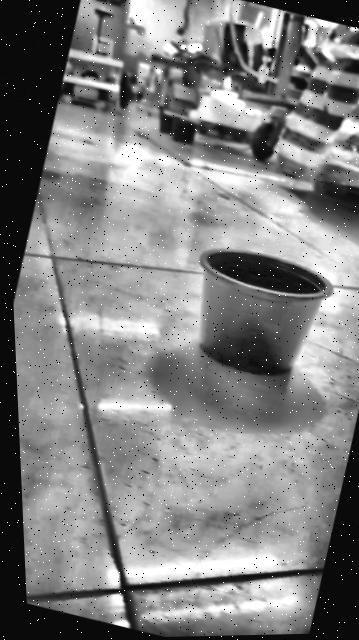pot: (173, 237, 338, 390)
